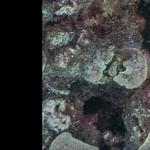dead: (43, 7, 149, 148)
